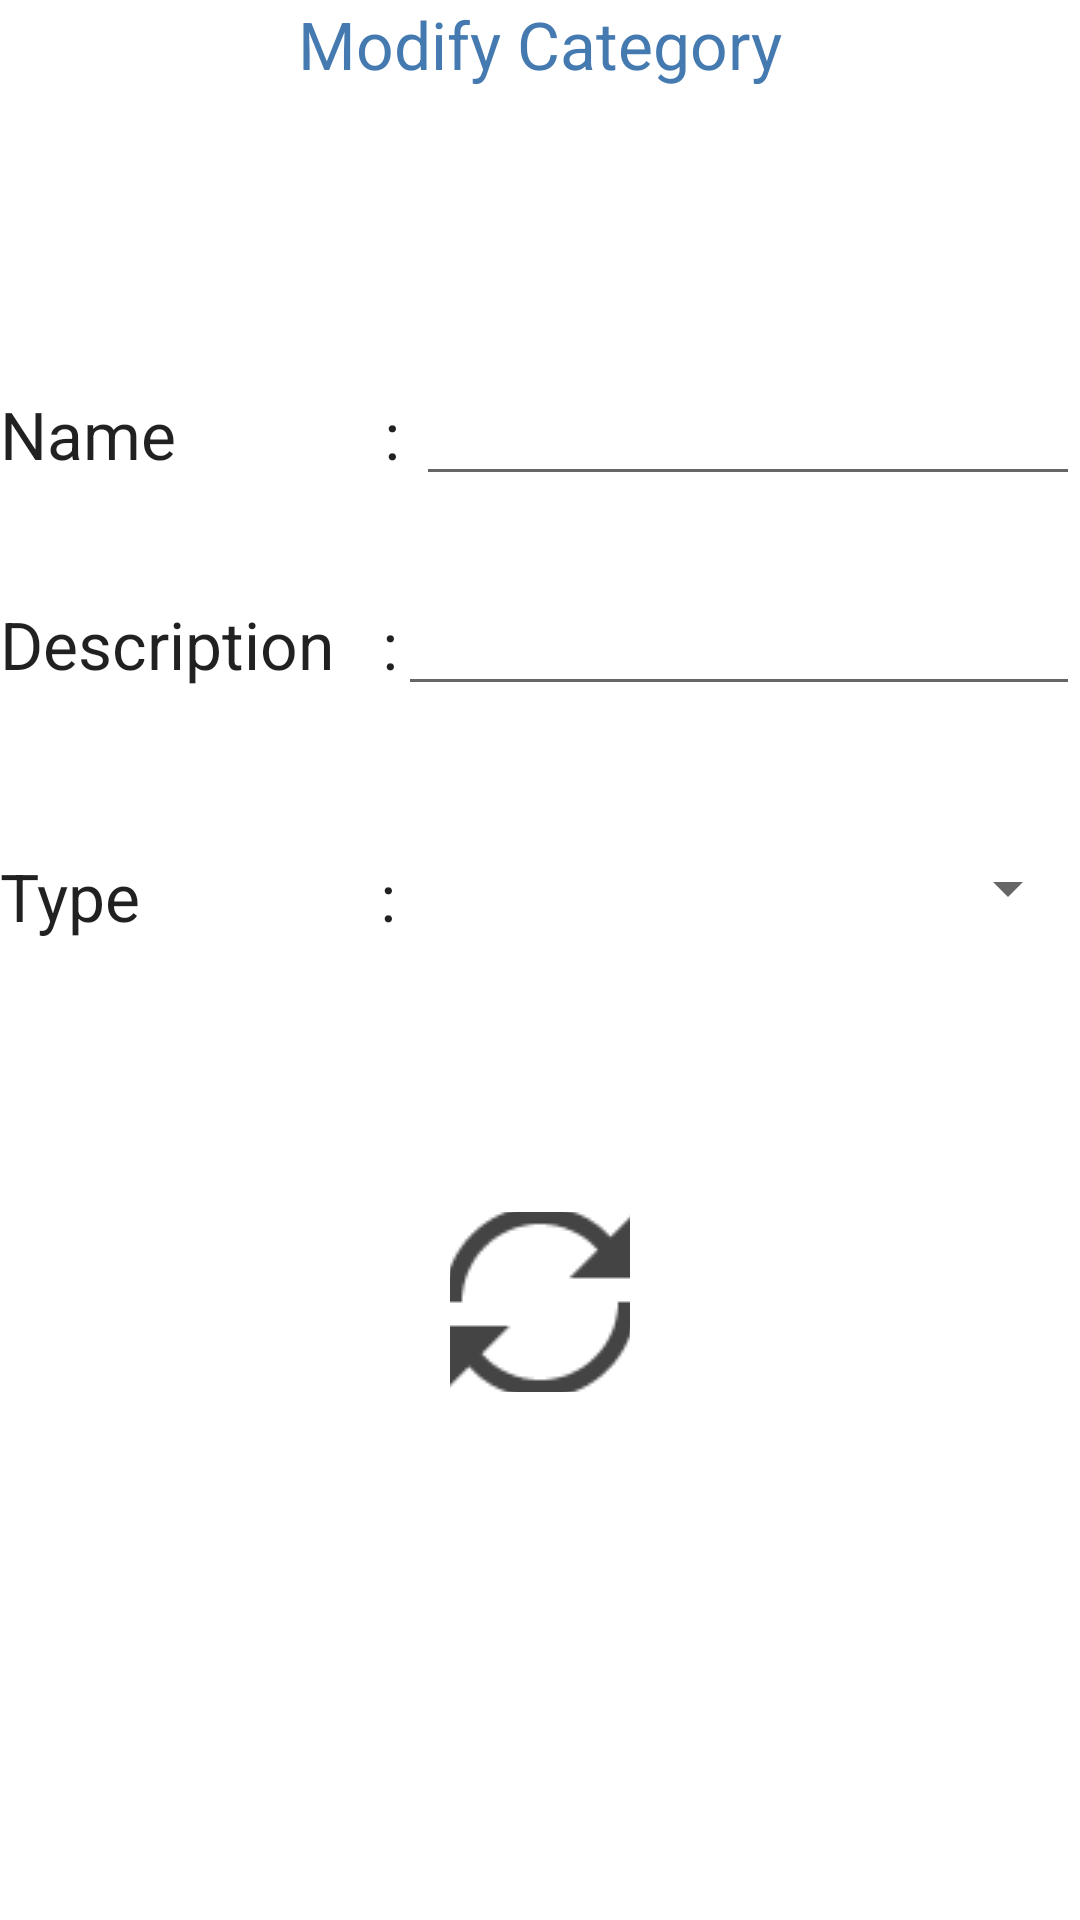

Icons on this 1080px×1920px Android screen, each with the point to tap as (x=x, y=y):
loop: (x=540, y=1302)
